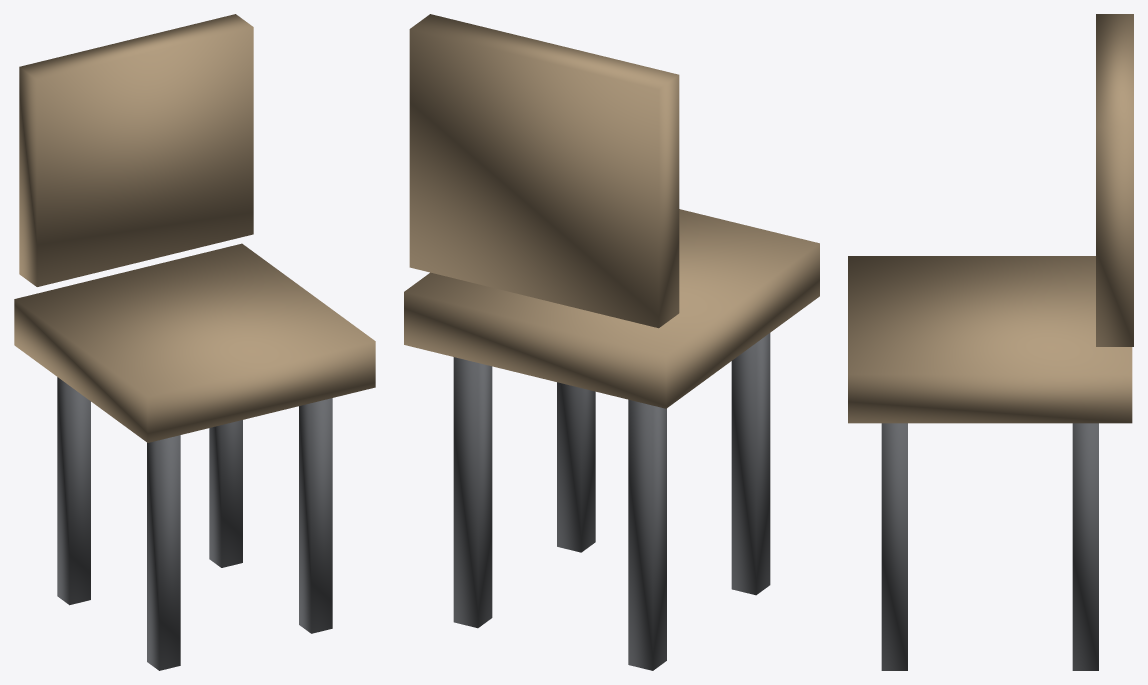
Rendered from school_chair__tall.glb.
The picture shows the model from 3 angles, left to right: view 1: azimuth 30°, elevation 25°; view 2: azimuth 150°, elevation 25°; view 3: azimuth 270°, elevation 25°; orthographic projection. The views are drawn at different scales.
Parts seen in each view (by area): view 1: world; view 2: world; view 3: world.
Part boxes in pixels (<box>): world: <box>14,14,375,670</box>; world: <box>404,14,819,670</box>; world: <box>848,14,1133,670</box>.
Bounding box in the file's own units: 0.4803 × 1.05 × 0.4902.
